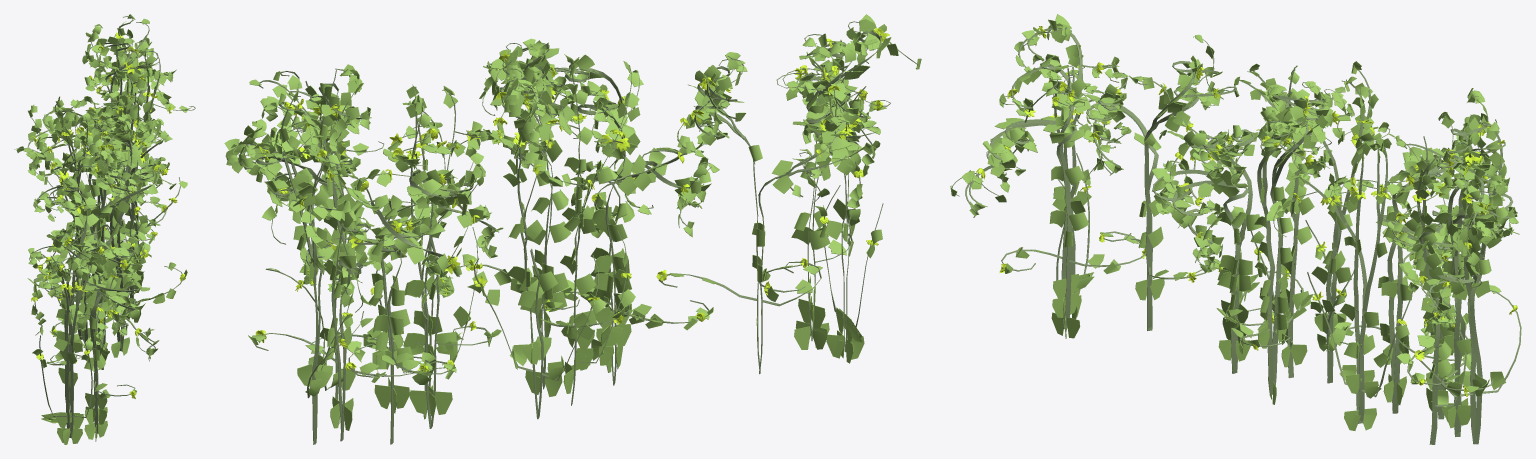
Rendered from Wall Climbers - Bushes.fbx.
The picture shows the model from 3 angles, left to right: view 1: azimuth 30°, elevation 25°; view 2: azimuth 150°, elevation 25°; view 3: azimuth 270°, elevation 25°; orthographic projection. The views are drawn at different scales.
Visible parts, largest first — view 1: floweringPea1Leaf, floweringPea1Main, floweringPea1Flower; view 2: floweringPea1Leaf, floweringPea1Main, floweringPea1Flower; view 3: floweringPea1Leaf, floweringPea1Main, floweringPea1Flower.
Boxes of the visible parts, x1=… form: floweringPea1Leaf: x1=16, y1=14, x2=191, y2=444; floweringPea1Main: x1=14, y1=16, x2=195, y2=438; floweringPea1Flower: x1=30, y1=32, x2=185, y2=398; floweringPea1Leaf: x1=224, y1=14, x2=921, y2=430; floweringPea1Main: x1=227, y1=21, x2=918, y2=444; floweringPea1Flower: x1=255, y1=28, x2=889, y2=371; floweringPea1Leaf: x1=950, y1=14, x2=1519, y2=430; floweringPea1Main: x1=952, y1=26, x2=1521, y2=444; floweringPea1Flower: x1=976, y1=26, x2=1517, y2=396.
Size of the model in its own units: 4.34 by 3.72 by 5.53.
